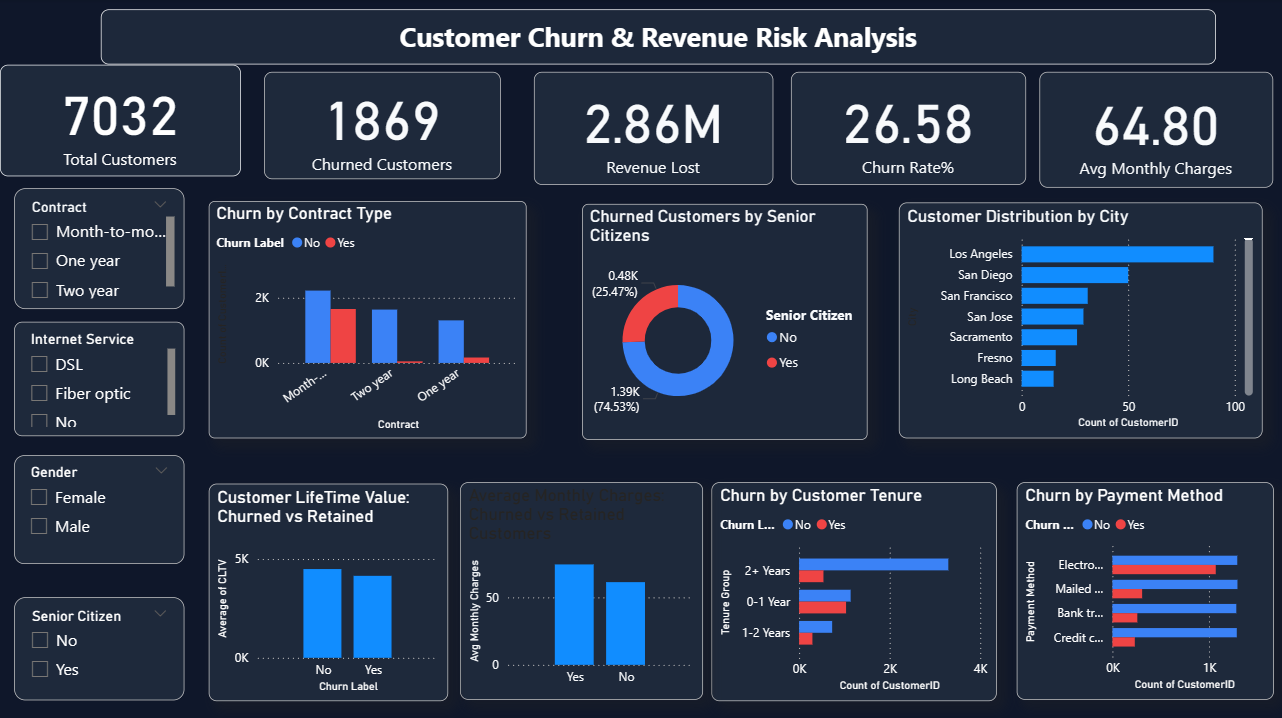

What the dashboard file says about the page in this screenshot:
{"tool":"powerbi","page":{"name":"Page 1","canvas":[1280,720],"ordinal":0},"visuals":[{"type":"card","fields":{"Values":["Telco_Customer_Churn_Cleaned.Avg Monthly Charges"]},"box":[1036.7,73.8,233.1,115.8],"z":0},{"type":"card","fields":{"Values":["Telco_Customer_Churn_Cleaned.Churn Rate%"]},"box":[789.1,73.8,234.6,112.9],"z":1000},{"type":"card","fields":{"Values":["Telco_Customer_Churn_Cleaned.Churned Customers"]},"box":[263.5,73.8,236,107.1],"z":2000},{"type":"card","fields":{"Values":["Telco_Customer_Churn_Cleaned.Revenue Lost"]},"box":[532.8,73.8,238.9,112.9],"z":3000},{"type":"card","fields":{"Values":["Telco_Customer_Churn_Cleaned.Total Customers"]},"box":[0,66.6,240.4,111.5],"z":4000},{"type":"clusteredColumnChart","title":"Churn by Contract Type","fields":{"Category":["Telco_Customer_Churn_Cleaned.Contract"],"Y":["CountNonNull(Telco_Customer_Churn_Cleaned.CustomerID)"],"Series":["Telco_Customer_Churn_Cleaned.Churn Label"]},"box":[240.4,202.7,285.2,236],"z":5000},{"type":"clusteredBarChart","title":"Churn by Customer Tenure","fields":{"Category":["Telco_Customer_Churn_Cleaned.Tenure Group"],"Series":["Telco_Customer_Churn_Cleaned.Churn Label"],"Y":["CountNonNull(Telco_Customer_Churn_Cleaned.CustomerID)"]},"box":[725,483.4,284.8,217.2],"z":6000},{"type":"clusteredBarChart","title":"Churn by Payment Method","fields":{"Category":["Telco_Customer_Churn_Cleaned.Payment Method"],"Y":["CountNonNull(Telco_Customer_Churn_Cleaned.CustomerID)"],"Series":["Telco_Customer_Churn_Cleaned.Churn Label"]},"box":[1023.7,483.6,256.3,217.2],"z":7000},{"type":"donutChart","title":"Churned Customers by Senior Citizens","fields":{"Category":["Telco_Customer_Churn_Cleaned.Senior Citizen"],"Y":["CountNonNull(Telco_Customer_Churn_Cleaned.CustomerID)"]},"box":[580.6,202.7,256.3,234.6],"z":8000},{"type":"slicer","fields":{"Values":["Telco_Customer_Churn_Cleaned.Contract"]},"box":[14.5,189.7,169.4,120.2],"z":9000},{"type":"slicer","fields":{"Values":["Telco_Customer_Churn_Cleaned.Gender"]},"box":[14.5,456.1,169.4,108.6],"z":10000},{"type":"slicer","fields":{"Values":["Telco_Customer_Churn_Cleaned.Internet Service"]},"box":[14.5,322.9,169.4,114.4],"z":11000},{"type":"slicer","fields":{"Values":["Telco_Customer_Churn_Cleaned.Senior Citizen"]},"box":[14.5,598,169.4,102.8],"z":12000},{"type":"clusteredColumnChart","title":"Average Monthly Charges: Churned vs Retained Customers","fields":{"Y":["Telco_Customer_Churn_Cleaned.Avg Monthly Charges"],"Category":["Telco_Customer_Churn_Cleaned.Churn Label"]},"box":[466.2,483.6,241.8,217.2],"z":13000},{"type":"clusteredBarChart","title":"Customer Distribution by City","fields":{"Category":["Telco_Customer_Churn_Cleaned.City"],"Y":["CountNonNull(Telco_Customer_Churn_Cleaned.CustomerID)"]},"box":[881.8,202.7,363.4,234.6],"z":14000},{"type":"clusteredColumnChart","title":"Customer LifeTime Value: Churned vs Retained","fields":{"Category":["Telco_Customer_Churn_Cleaned.Churn Label"],"Y":["Avg(Telco_Customer_Churn_Cleaned.CLTV)"]},"box":[208.5,483.6,238.9,217.2],"z":15000},{"type":"textbox","box":[99.9,11.6,1112,55],"z":16000}]}

Visuals, with their boxes in screenshot pixels (x1, y1, x2, y2), scaled from the page's 1280x720 canvas onto the 1282x718 screenshot:
card - Telco_Customer_Churn_Cleaned.Avg Monthly Charges: <bbox>1038, 74, 1272, 189</bbox>
card - Telco_Customer_Churn_Cleaned.Churn Rate%: <bbox>790, 74, 1025, 186</bbox>
card - Telco_Customer_Churn_Cleaned.Churned Customers: <bbox>264, 74, 500, 180</bbox>
card - Telco_Customer_Churn_Cleaned.Revenue Lost: <bbox>534, 74, 773, 186</bbox>
card - Telco_Customer_Churn_Cleaned.Total Customers: <bbox>0, 66, 241, 178</bbox>
"Churn by Contract Type" clusteredColumnChart: <bbox>241, 202, 526, 437</bbox>
"Churn by Customer Tenure" clusteredBarChart: <bbox>726, 482, 1011, 699</bbox>
"Churn by Payment Method" clusteredBarChart: <bbox>1025, 482, 1281, 699</bbox>
"Churned Customers by Senior Citizens" donutChart: <bbox>582, 202, 838, 436</bbox>
slicer - Telco_Customer_Churn_Cleaned.Contract: <bbox>15, 189, 184, 309</bbox>
slicer - Telco_Customer_Churn_Cleaned.Gender: <bbox>15, 455, 184, 563</bbox>
slicer - Telco_Customer_Churn_Cleaned.Internet Service: <bbox>15, 322, 184, 436</bbox>
slicer - Telco_Customer_Churn_Cleaned.Senior Citizen: <bbox>15, 596, 184, 699</bbox>
"Average Monthly Charges: Churned vs Retained Customers" clusteredColumnChart: <bbox>467, 482, 709, 699</bbox>
"Customer Distribution by City" clusteredBarChart: <bbox>883, 202, 1247, 436</bbox>
"Customer LifeTime Value: Churned vs Retained" clusteredColumnChart: <bbox>209, 482, 448, 699</bbox>
textbox: <bbox>100, 12, 1214, 66</bbox>
